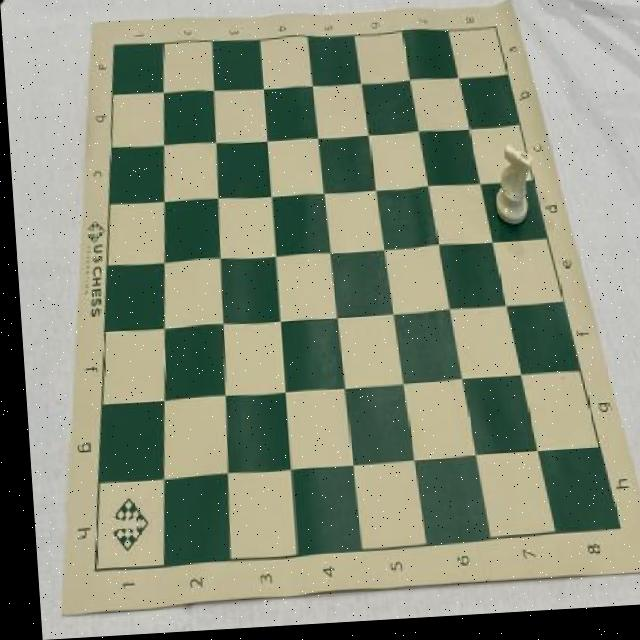white-king: (489, 148, 532, 233)
